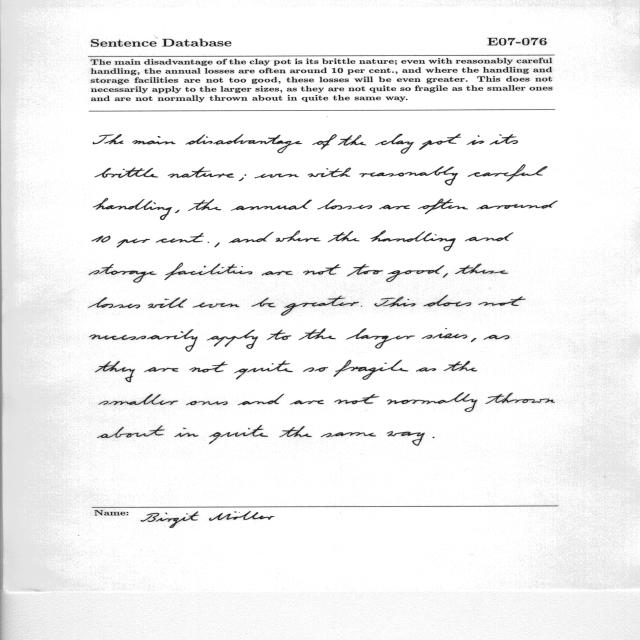word: (387, 393, 555, 412), (90, 329, 198, 352), (186, 134, 302, 153), (359, 166, 458, 186), (370, 231, 456, 252), (93, 198, 172, 220), (281, 296, 359, 316), (334, 360, 409, 380), (165, 263, 253, 280), (346, 328, 415, 349), (468, 165, 548, 182), (89, 264, 157, 282), (234, 361, 293, 380), (209, 425, 268, 444), (386, 265, 445, 282), (207, 330, 258, 349), (231, 200, 312, 211), (98, 425, 165, 438), (99, 394, 178, 405), (95, 361, 135, 382), (375, 134, 414, 154), (418, 199, 468, 214), (477, 201, 558, 210), (168, 167, 234, 178), (95, 167, 158, 178), (419, 134, 461, 150), (318, 199, 373, 210), (156, 232, 209, 243), (88, 297, 140, 308), (387, 431, 425, 446), (424, 295, 471, 307), (455, 264, 508, 274), (276, 230, 320, 242), (238, 394, 284, 405), (229, 232, 274, 243), (422, 328, 467, 339), (479, 296, 526, 306), (334, 394, 380, 404), (299, 328, 336, 340), (465, 233, 514, 242), (347, 264, 383, 276), (308, 168, 351, 178), (148, 297, 187, 308), (374, 297, 416, 307), (303, 264, 341, 275), (190, 362, 228, 373), (312, 134, 337, 150), (188, 199, 221, 211), (279, 426, 312, 437), (132, 136, 176, 144), (328, 231, 360, 242), (444, 361, 478, 371), (338, 135, 366, 146), (490, 134, 518, 145), (116, 239, 150, 248), (94, 134, 124, 144), (193, 302, 239, 308), (321, 432, 376, 437), (267, 329, 291, 340), (252, 298, 276, 308), (175, 428, 199, 437), (255, 174, 299, 178), (467, 135, 484, 145), (145, 367, 179, 372), (186, 401, 228, 405), (262, 271, 293, 276), (290, 400, 324, 404), (92, 236, 111, 243), (484, 335, 509, 340), (303, 367, 328, 372), (379, 205, 410, 209), (416, 368, 436, 372), (239, 175, 246, 182), (215, 243, 220, 248), (443, 273, 448, 278), (471, 338, 476, 342), (175, 210, 179, 213), (433, 437, 435, 438), (361, 306, 362, 307)
